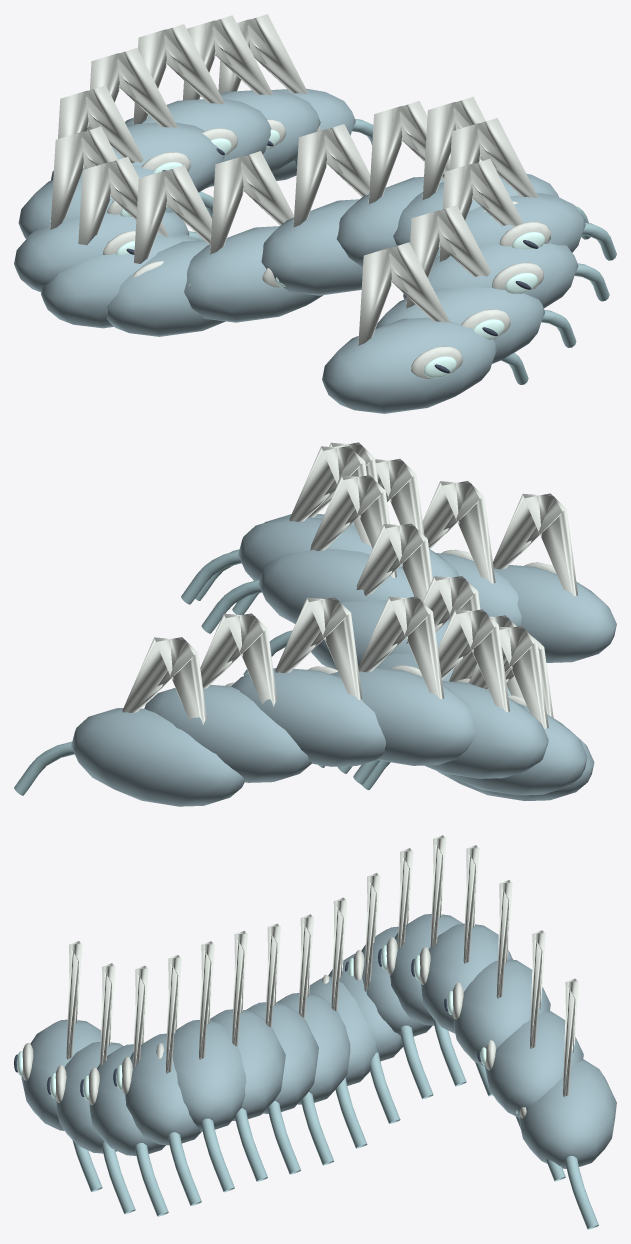
The model's file is bio_ribbon_colony_08_far.glb.
The picture shows the model from 3 angles, top to bottom: view 1: azimuth 30°, elevation 25°; view 2: azimuth 150°, elevation 25°; view 3: azimuth 270°, elevation 25°; orthographic projection. The views are drawn at different scales.
Parts seen in each view (by area): view 1: Overlapping folded ribbon, Overlapping folded ribbon.007, Overlapping folded ribbon.006, Overlapping folded ribbon.008, Raised pleated edge, Overlapping folded ribbon.009, Overlapping folded ribbon.010, Overlapping folded ribbon.001, Overlapping folded ribbon.002, Raised pleated edge.007, Raised pleated edge.008, Raised pleated edge.006 (+23 smaller); view 2: Overlapping folded ribbon.015, Overlapping folded ribbon.013, Overlapping folded ribbon.012, Overlapping folded ribbon.014, Overlapping folded ribbon, Overlapping folded ribbon.011, Overlapping folded ribbon.005, Raised pleated edge.012, Raised pleated edge, Raised pleated edge.013, Raised pleated edge.001, Raised pleated edge.014 (+21 smaller); view 3: Overlapping folded ribbon.015, Overlapping folded ribbon.004, Overlapping folded ribbon.014, Overlapping folded ribbon.013, Overlapping folded ribbon.003, Overlapping folded ribbon.012, Overlapping folded ribbon.005, Overlapping folded ribbon, Overlapping folded ribbon.006, Overlapping folded ribbon.007, Overlapping folded ribbon.002, Overlapping folded ribbon.001 (+33 smaller).
Boxes of the visible parts, box(x1,y1,x2,y2) form: Overlapping folded ribbon: box(322, 317, 497, 413); Overlapping folded ribbon.007: box(184, 226, 323, 322); Overlapping folded ribbon.006: box(261, 199, 362, 295); Overlapping folded ribbon.008: box(107, 240, 225, 336); Raised pleated edge: box(358, 242, 462, 378); Overlapping folded ribbon.009: box(41, 233, 197, 328); Overlapping folded ribbon.010: box(14, 212, 189, 292); Overlapping folded ribbon.001: box(375, 286, 545, 363); Overlapping folded ribbon.002: box(403, 243, 578, 308); Raised pleated edge.007: box(210, 151, 293, 287); Raised pleated edge.008: box(134, 165, 211, 286); Raised pleated edge.006: box(293, 124, 370, 227); Overlapping folded ribbon.015: box(71, 708, 244, 806); Overlapping folded ribbon.013: box(231, 668, 385, 766); Overlapping folded ribbon.012: box(330, 668, 475, 765); Overlapping folded ribbon.014: box(144, 685, 311, 782); Overlapping folded ribbon: box(494, 565, 616, 662); Overlapping folded ribbon.011: box(425, 681, 548, 778); Overlapping folded ribbon.005: box(258, 548, 414, 623); Raised pleated edge.012: box(358, 596, 444, 699); Raised pleated edge: box(493, 493, 578, 596); Raised pleated edge.013: box(275, 597, 362, 700); Raised pleated edge.001: box(422, 481, 495, 583); Raised pleated edge.014: box(200, 613, 277, 706); Overlapping folded ribbon.015: box(519, 1059, 616, 1168); Overlapping folded ribbon.004: box(172, 1020, 246, 1131); Overlapping folded ribbon.014: box(485, 1011, 583, 1117); Overlapping folded ribbon.013: box(453, 959, 550, 1066); Overlapping folded ribbon.003: box(125, 1033, 201, 1145); Overlapping folded ribbon.012: box(421, 923, 512, 1033); Overlapping folded ribbon.005: box(210, 1009, 285, 1121); Overlapping folded ribbon: box(21, 1019, 100, 1130); Overlapping folded ribbon.006: box(246, 1002, 318, 1113); Overlapping folded ribbon.007: box(276, 993, 350, 1104); Overlapping folded ribbon.002: box(89, 1044, 165, 1155); Overlapping folded ribbon.001: box(56, 1042, 123, 1153).
Bounding box in the file's own units: 2.81 × 1.34 × 3.04.
